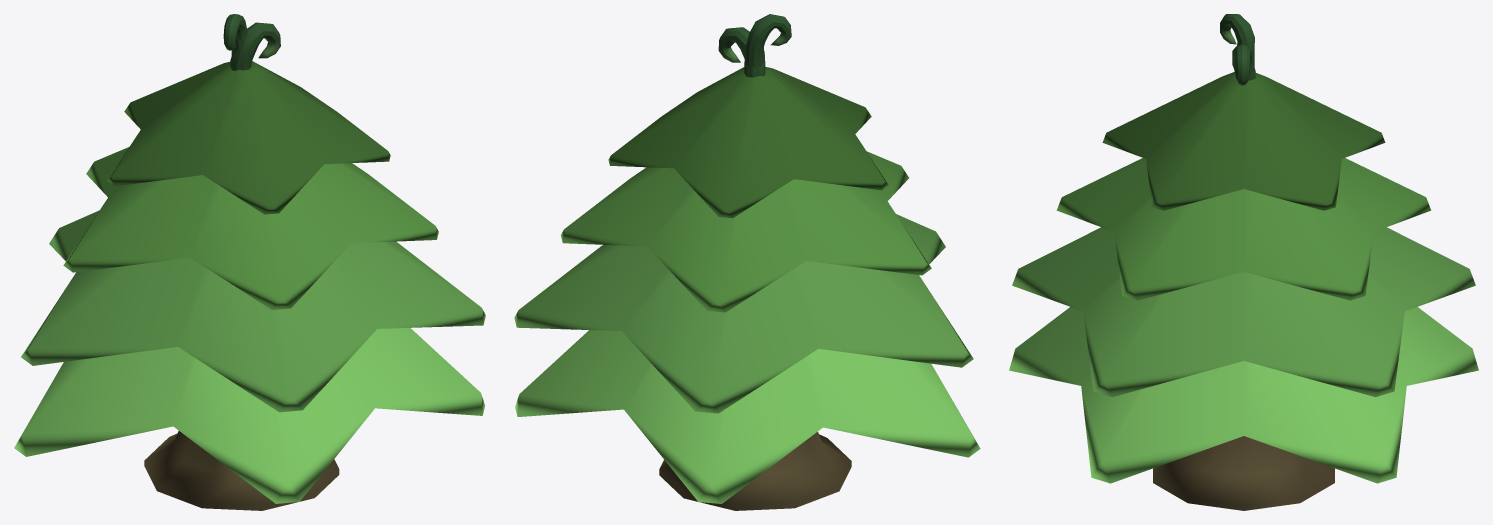
File: star_tree_combined.fbx
The picture shows the model from 3 angles, left to right: view 1: azimuth 30°, elevation 25°; view 2: azimuth 150°, elevation 25°; view 3: azimuth 270°, elevation 25°; orthographic projection. The views are drawn at different scales.
Parts seen in each view (by area): view 1: Body, Trunk, Top; view 2: Body, Trunk, Top; view 3: Body, Trunk, Top.
Boxes of the visible parts, box(x1,y1,x2,y2) form: Body: box(14, 61, 485, 503); Trunk: box(144, 431, 339, 510); Top: box(223, 14, 280, 70); Body: box(514, 67, 980, 503); Trunk: box(659, 431, 851, 510); Top: box(718, 14, 791, 77); Body: box(1009, 71, 1478, 483); Trunk: box(1153, 436, 1334, 510); Top: box(1220, 14, 1255, 85).
Size of the model in its own units: 9.01 by 9.99 by 9.44.
